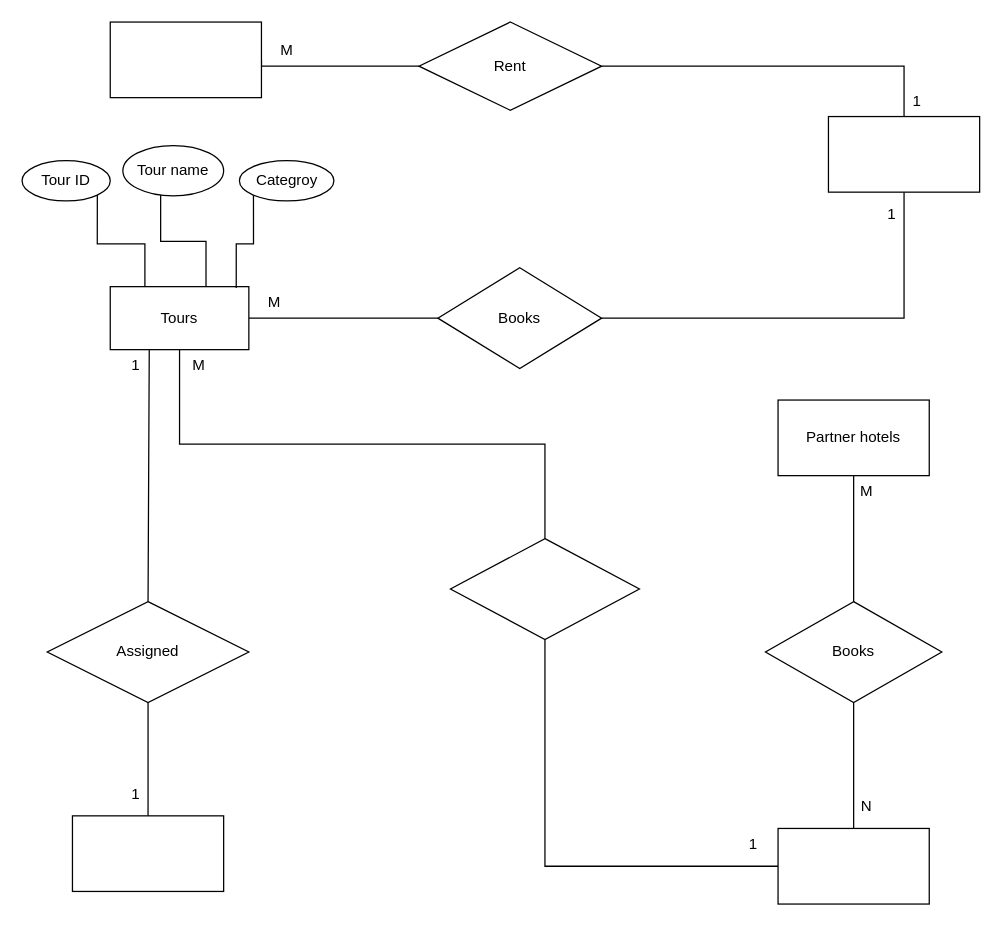
The diagram is 1002 pixels wide and 926 high, and some of its shapes have lost their labels. Here are the shapes that lost their labels. From the top down, the box of each, then its label:
(109, 21, 261, 98): Tour equipment
(827, 115, 980, 192): Customers
(449, 537, 639, 639): Organize
(71, 815, 224, 891): Tour guides
(777, 827, 929, 904): Tour organizer
